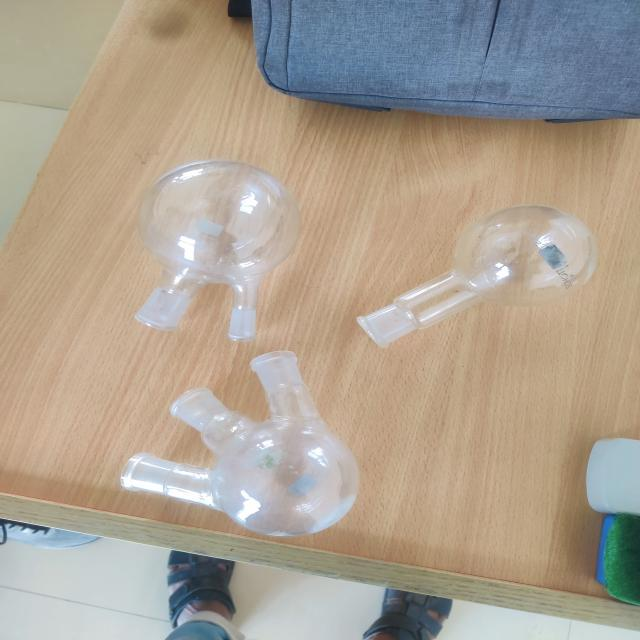Round_Bottom_Flask_Borosilicate_Glass_1_Neck: (352, 162, 616, 369)
Round_Bottom_Flask_Borosilicate_Glass_2_Neck: (111, 133, 321, 352)
Round_Bottom_Flask_Borosilicate_Glass_3_Neck: (79, 341, 381, 558)
